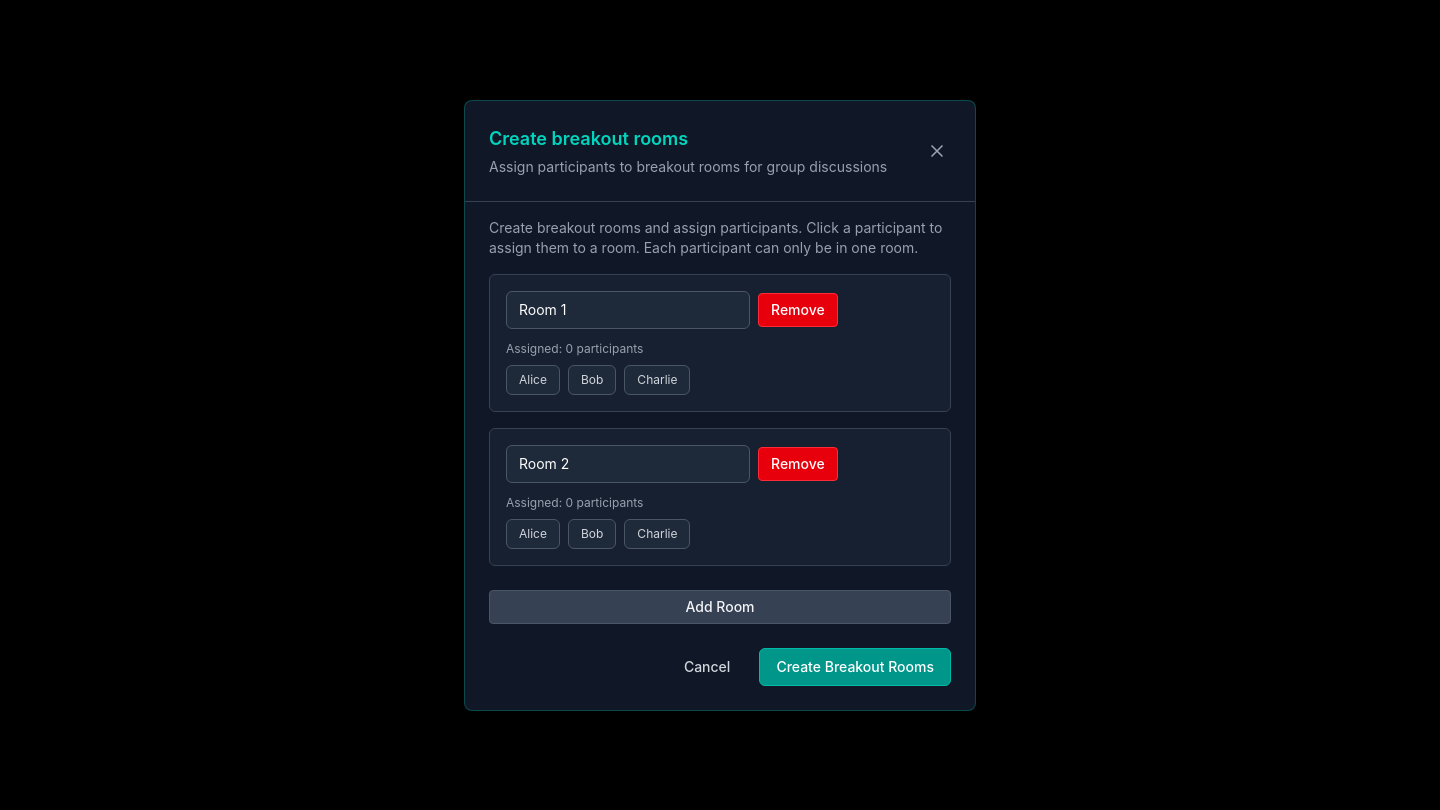
Test case: BreakoutModal Component › Submission › shows loading state during submission
Click the button "Create Breakout Rooms": (855, 666) [759, 648, 951, 686]
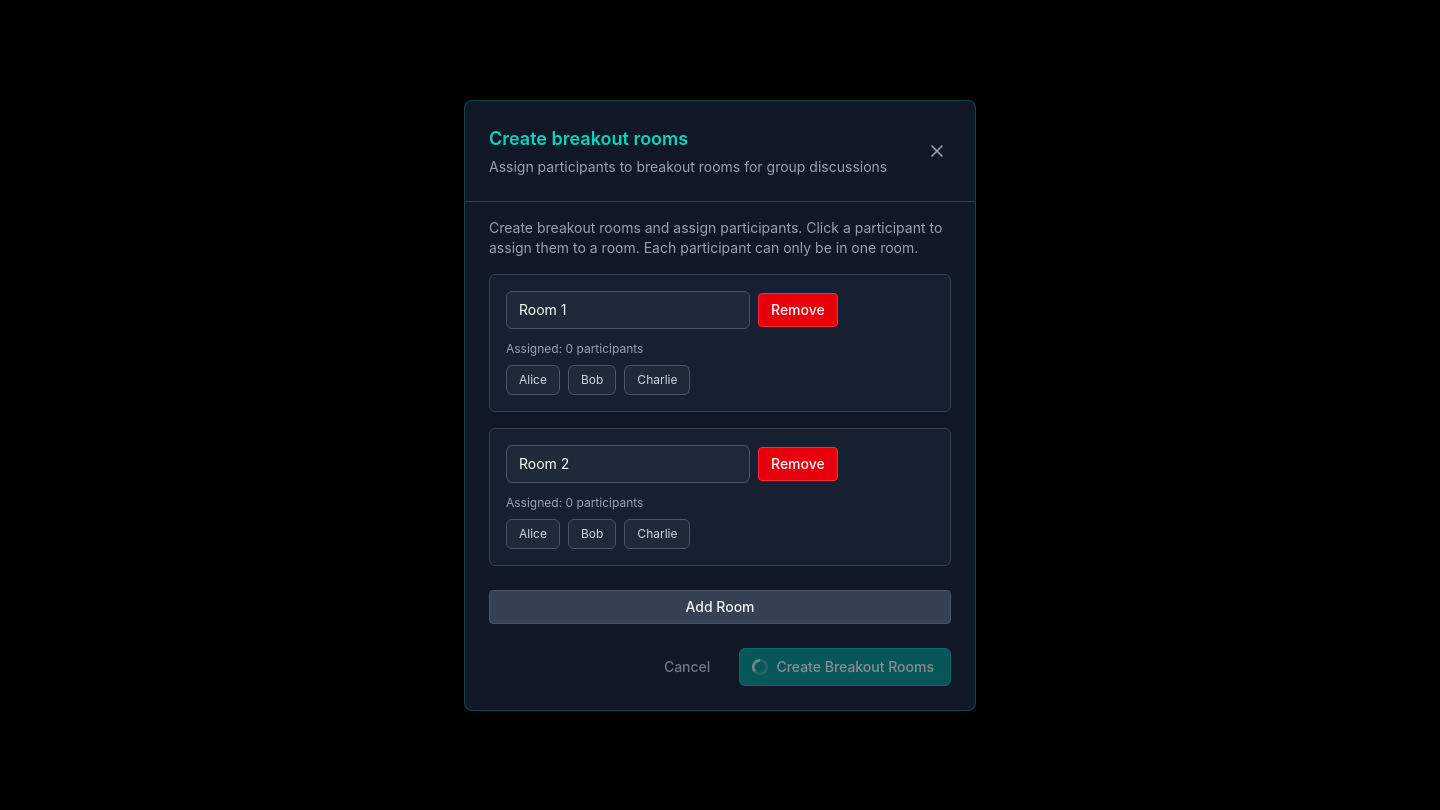
Check: the button "Create Breakout Rooms" is disabled, box [739, 648, 951, 686]
